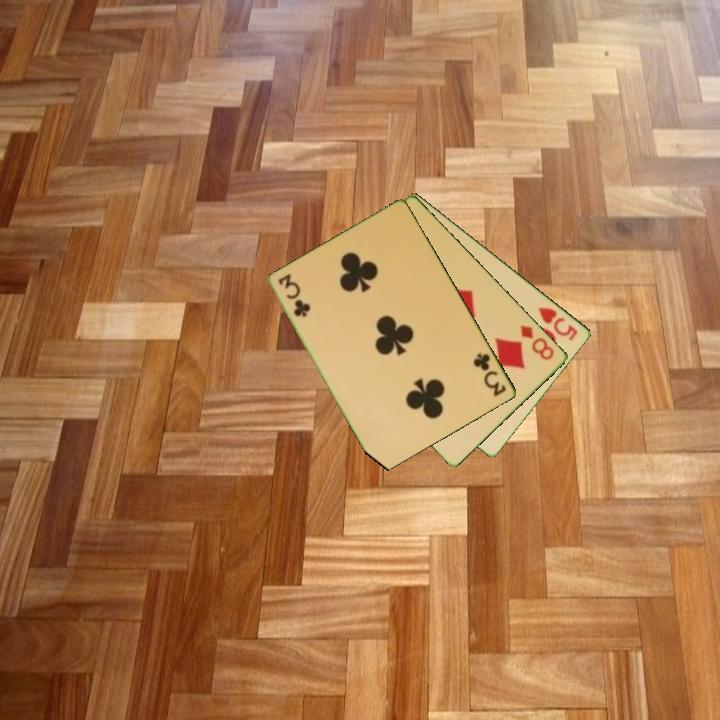3c: (470, 350, 510, 399), (275, 271, 312, 320)
5h: (535, 303, 581, 343)
8d: (517, 322, 557, 363)
